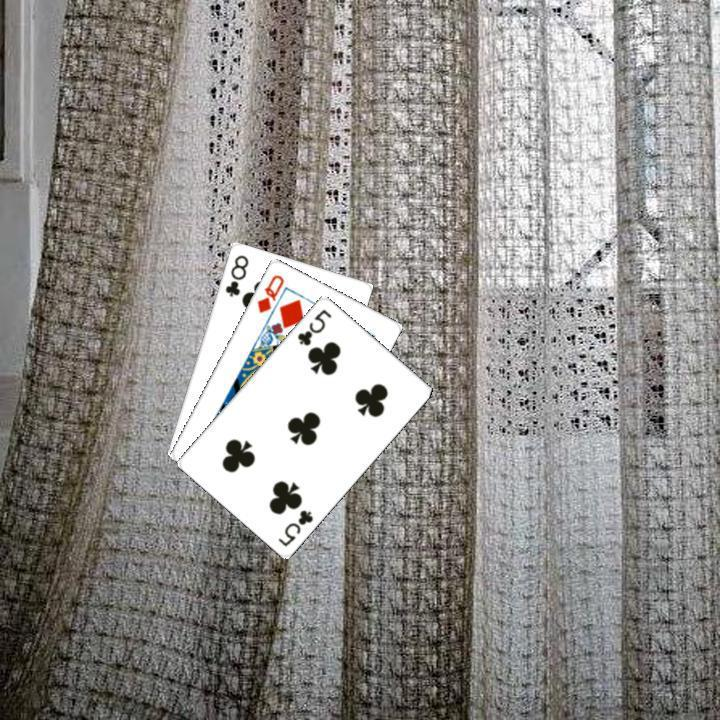5: (293, 304, 334, 348), (274, 505, 315, 548)
8: (221, 250, 250, 298)
Q: (253, 270, 286, 315)
